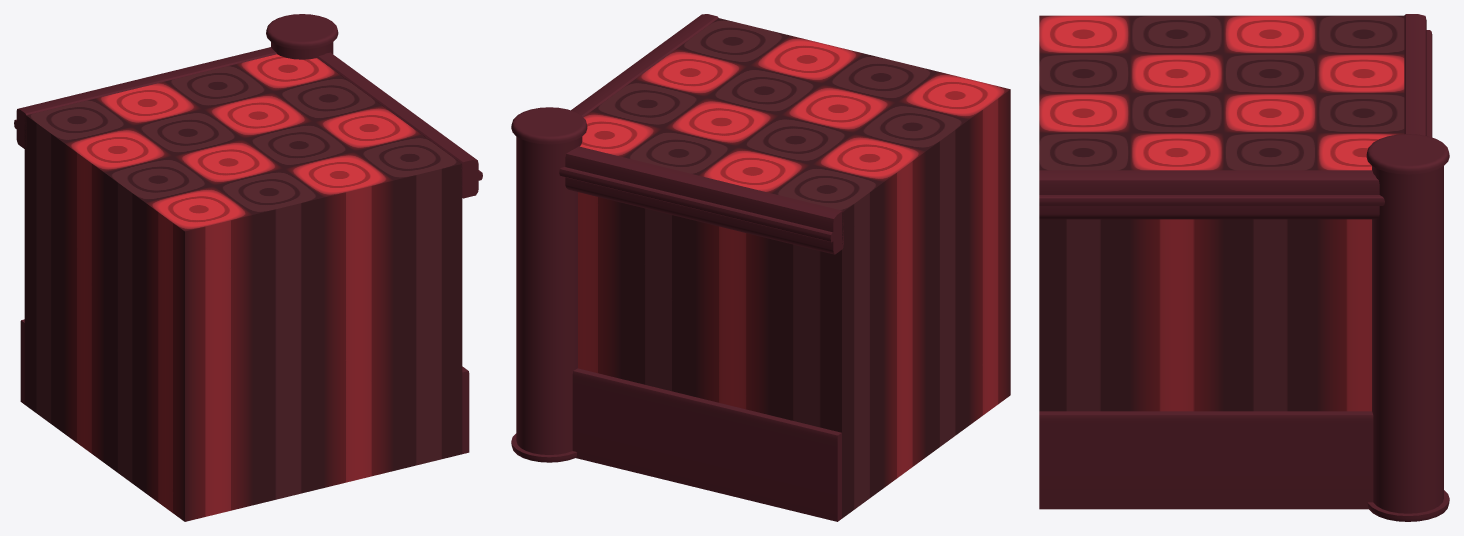
Rendered from platforma_rog_LGB_LD.fbx.
The picture shows the model from 3 angles, left to right: view 1: azimuth 30°, elevation 25°; view 2: azimuth 150°, elevation 25°; view 3: azimuth 270°, elevation 25°; orthographic projection. The views are drawn at different scales.
Parts seen in each view (by area): view 1: platforma_rog_LGB_LDA_KA, listwa_LGB.008, listwa_LGB.007, kolumna_A.005, listwa_dol.018; view 2: platforma_rog_LGB_LDA_KA, listwa_dol.017, kolumna_A.005, listwa_LGB.007, listwa_LGB.008; view 3: platforma_rog_LGB_LDA_KA, listwa_dol.018, kolumna_A.005, listwa_LGB.008, listwa_LGB.007.
Part boxes in pixels (box(x1,y1,x2,y2)): platforma_rog_LGB_LDA_KA: box(24, 54, 462, 521); listwa_LGB.008: box(317, 52, 482, 198); listwa_LGB.007: box(14, 47, 276, 148); kolumna_A.005: box(266, 14, 338, 59); listwa_dol.018: box(462, 366, 469, 453); platforma_rog_LGB_LDA_KA: box(578, 18, 1010, 518); listwa_dol.017: box(572, 368, 841, 521); kolumna_A.005: box(511, 107, 587, 462); listwa_LGB.007: box(559, 146, 843, 254); listwa_LGB.008: box(571, 14, 718, 116); platforma_rog_LGB_LDA_KA: box(1039, 15, 1404, 411); listwa_dol.018: box(1039, 411, 1373, 509); kolumna_A.005: box(1366, 134, 1449, 521); listwa_LGB.008: box(1039, 170, 1384, 219); listwa_LGB.007: box(1404, 14, 1432, 137).
Bounding box in the file's own units: 890 × 850 × 890.
Materials: 2 (2 with a texture image).
